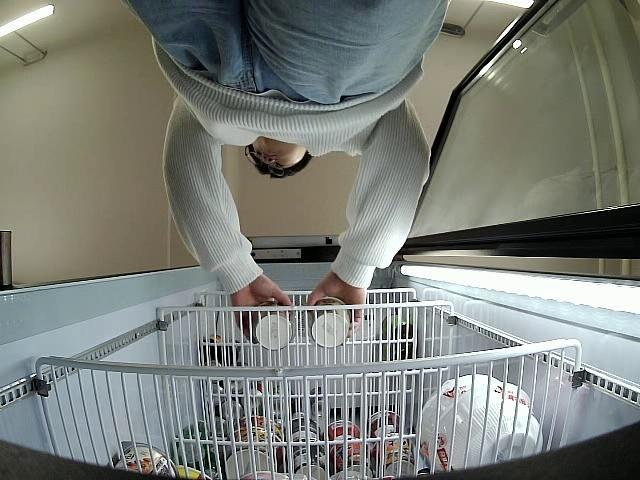04_chapagetti_S: (248, 298, 296, 348), (308, 297, 352, 350)
